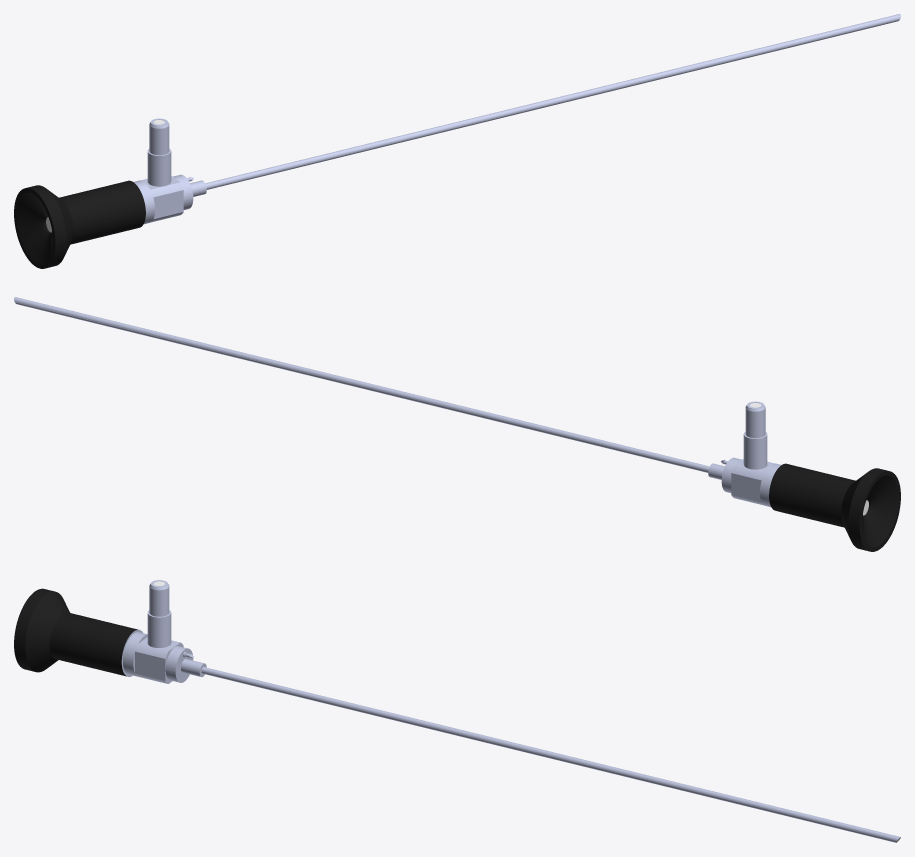
Rendered from Hysteroscope.obj.
3 renders of one model, top to bottom at view 1: azimuth 30°, elevation 25°; view 2: azimuth 150°, elevation 25°; view 3: azimuth 330°, elevation 25°, orthographic.
Parts seen in each view (by area): view 1: Hysteroscope_Olympus; view 2: Hysteroscope_Olympus; view 3: Hysteroscope_Olympus.
Part boxes in pixels (x1,y1,x2,y2): Hysteroscope_Olympus: (14, 14, 900, 268); Hysteroscope_Olympus: (14, 297, 900, 551); Hysteroscope_Olympus: (14, 580, 900, 842).
Size of the model in its own units: 0.3825 by 0.0479 by 0.0317.
